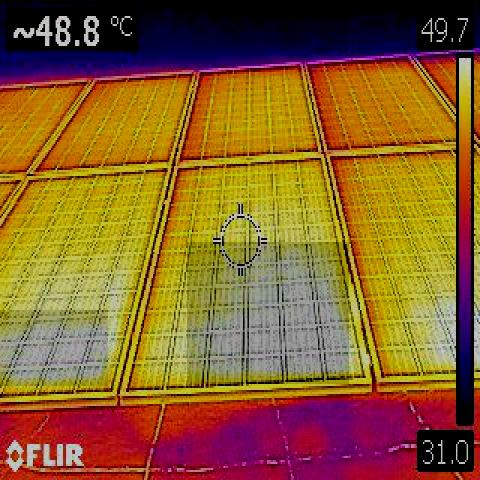fault: (187, 242, 349, 384), (0, 310, 108, 386)
